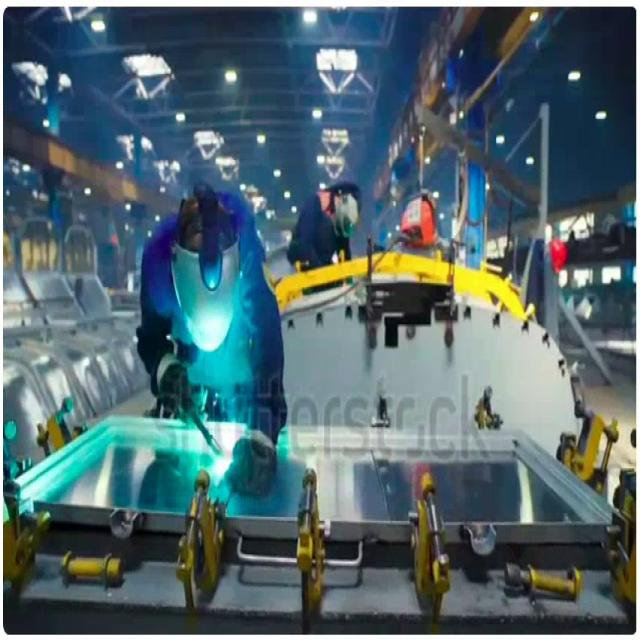gloved: (224, 428, 277, 498), (151, 352, 190, 419)
